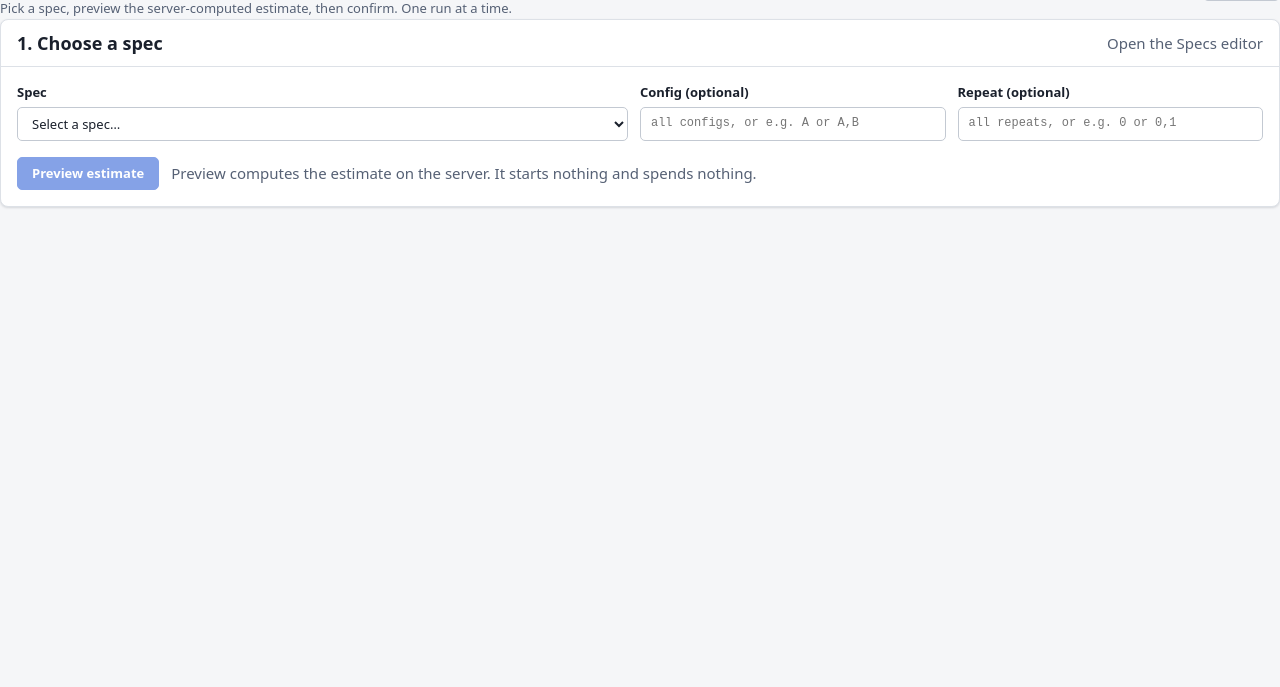
Test case: Nonce lifecycle and conflicts › 409 spec_changed burns the preview: message shown, launch disabled, Preview again offered
The width and height of the screenshot is (1280, 687).
Select "pilot-scripted [scripted]" in the dropdown labelled "Spec" at point(322, 124), box [17, 106, 628, 140]
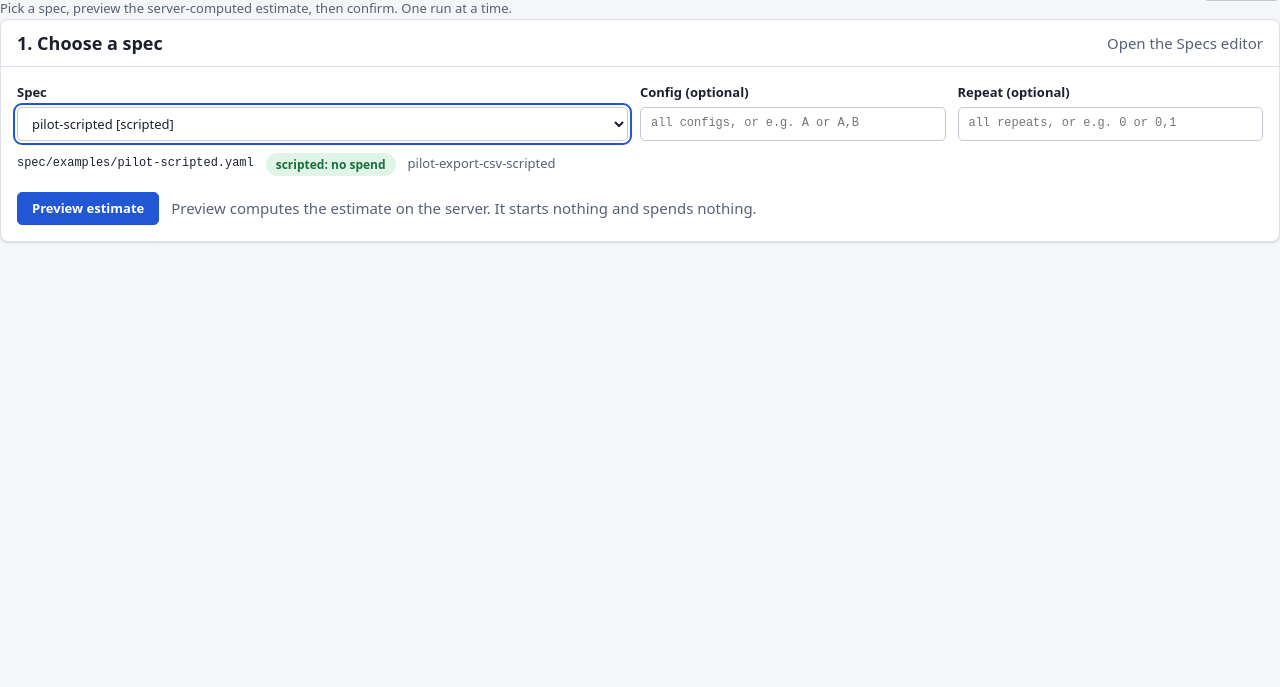
Click the button "Preview estimate" at point(88, 208), box [17, 192, 159, 225]
(page scrolled)
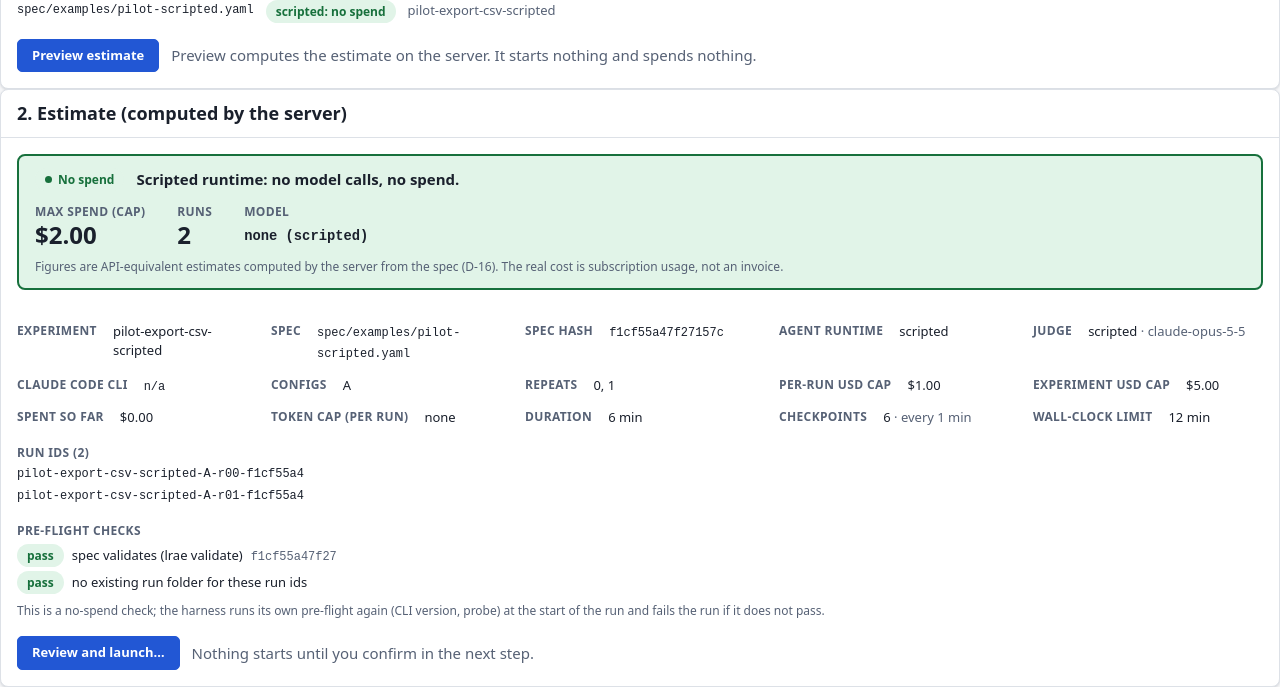
Expected: the heading "2. Estimate (computed by the server)" is shown, [17, 102, 347, 125]
Click the button "Review and launch…" at point(98, 653), box [17, 636, 180, 670]
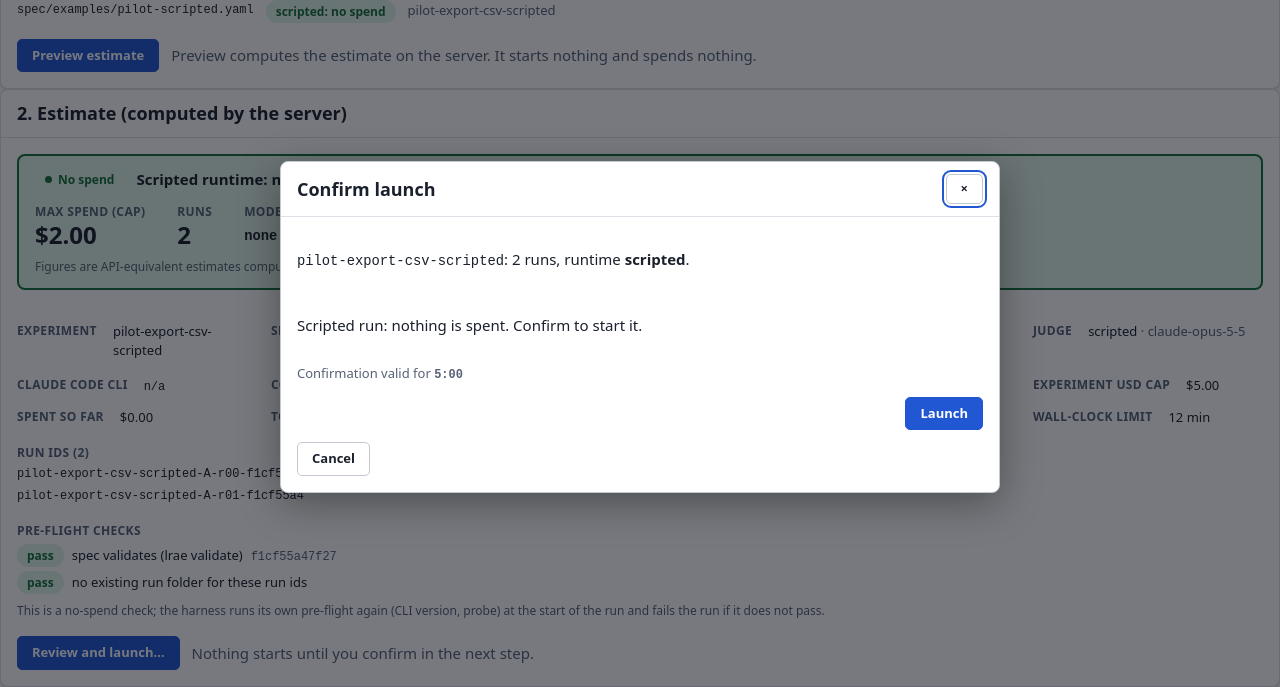
Click the button "Launch" at point(944, 414), box [906, 397, 983, 430]
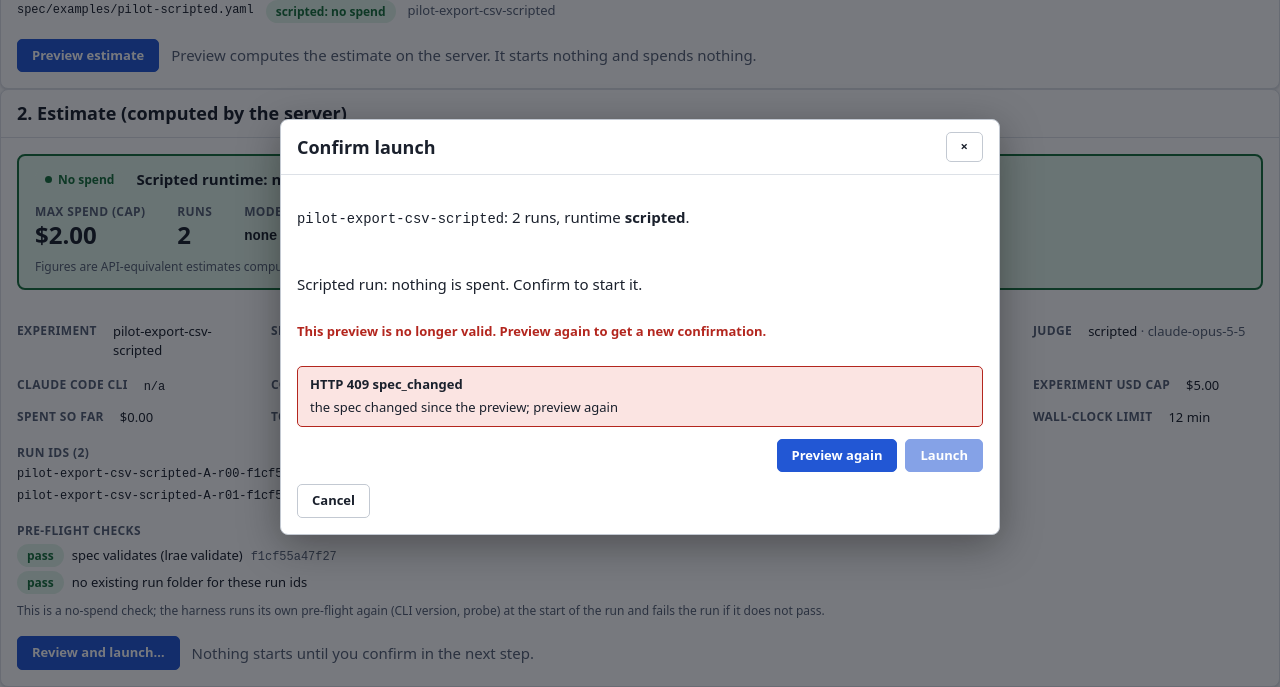
Expected: the message "HTTP 409 spec_changed the spec changed since the preview; preview again" is shown, [297, 366, 983, 427]
Expected: the button "Launch" is disabled, [906, 439, 983, 472]
Expected: the button "Preview again" is shown, [776, 439, 898, 472]
